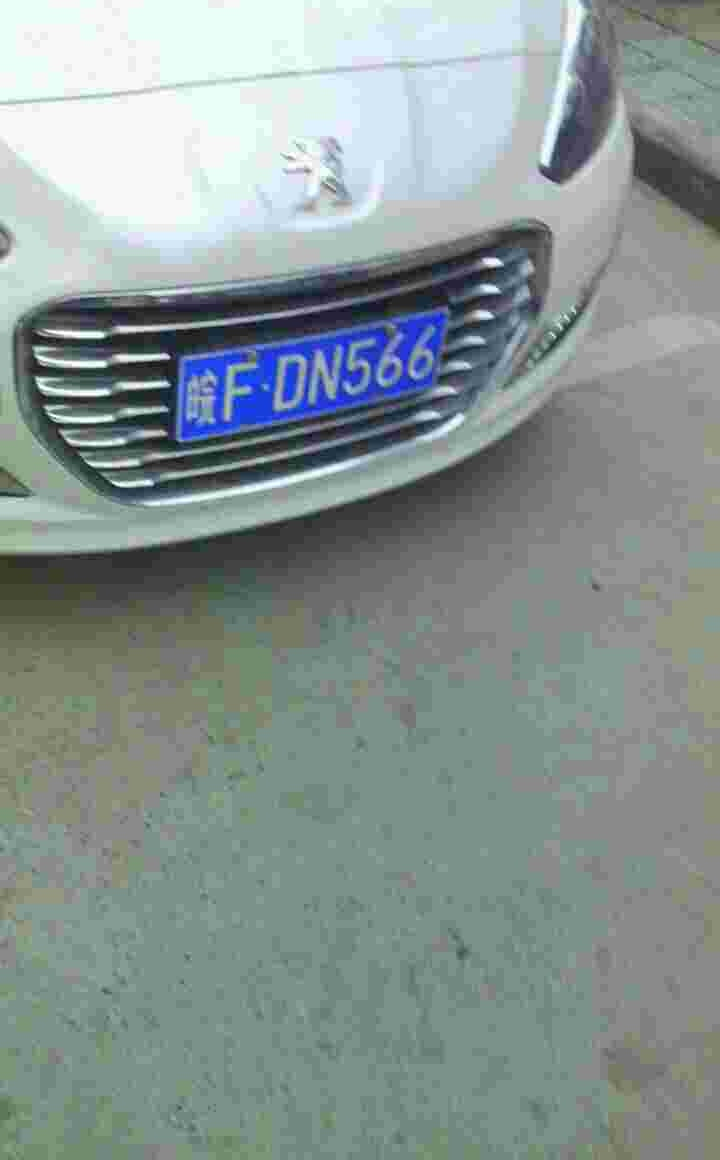license_plate: (166, 308, 466, 439)
